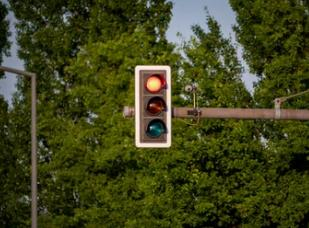red_light: (135, 65, 172, 147)
